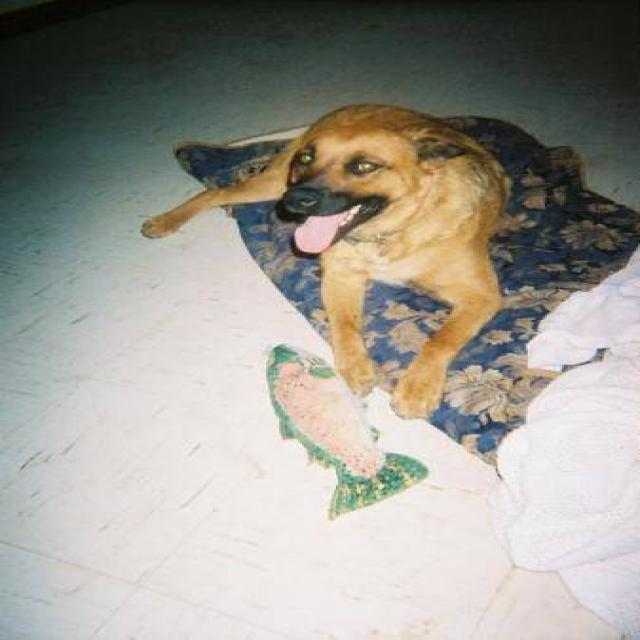dog: (138, 101, 512, 420)
